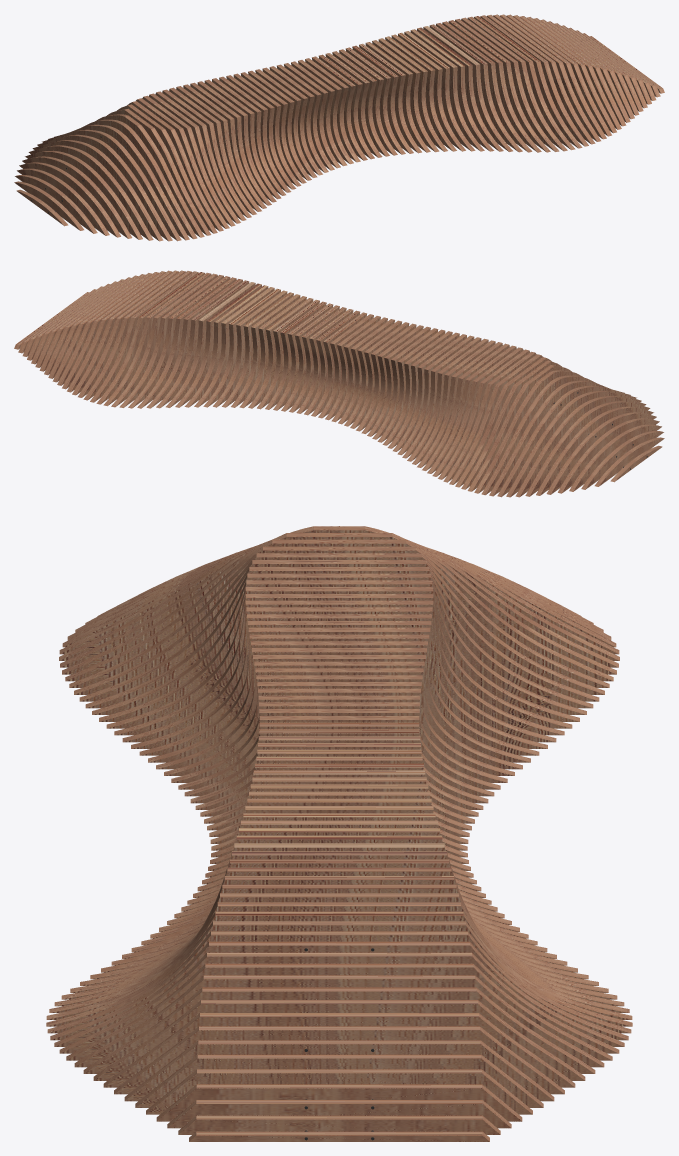
The model's file is parametric_seating_2.glb.
The picture shows the model from 3 angles, top to bottom: view 1: azimuth 30°, elevation 25°; view 2: azimuth 150°, elevation 25°; view 3: azimuth 270°, elevation 25°; orthographic projection. The views are drawn at different scales.
Parts seen in each view (by area): view 1: Object_2; view 2: Object_2; view 3: Object_2.
Part boxes in pixels (left/top/right/bottom): Object_2: left=14, top=14, right=664, bottom=241; Object_2: left=14, top=270, right=664, bottom=497; Object_2: left=46, top=526, right=632, bottom=1141.
Size of the model in its own units: 4.23 by 0.45 by 1.83.
2 materials, 1 textured.
